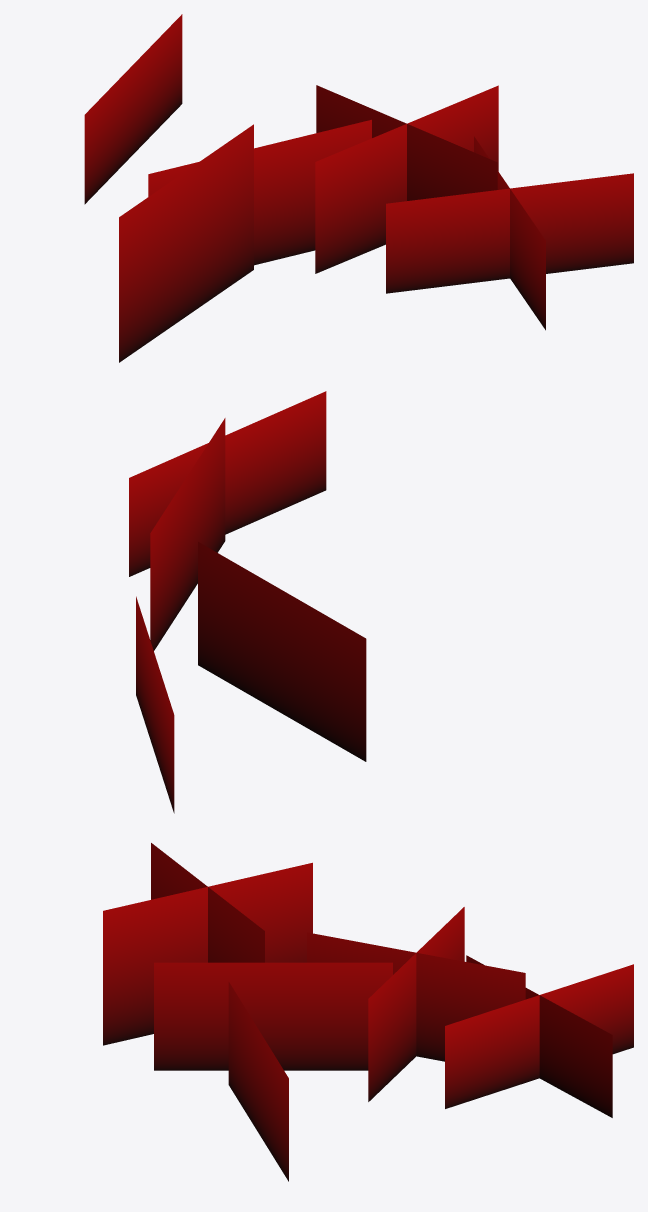
Rendered from Grass-FixedNormal.glb.
3 views of the same model, one above another, from view 1: azimuth 30°, elevation 25°; view 2: azimuth 150°, elevation 25°; view 3: azimuth 270°, elevation 25° (orthographic). The views are drawn at different scales.
Parts seen in each view (by area): view 1: GrassPatch_LOD2.005; view 2: GrassPatch_LOD2.005; view 3: GrassPatch_LOD2.005.
Boxes of the visible parts, x1,y1,x2,y2 form: GrassPatch_LOD2.005: (84, 14, 633, 362); GrassPatch_LOD2.005: (129, 391, 366, 813); GrassPatch_LOD2.005: (103, 843, 633, 1181).
Bounding box in the file's own units: 2.46 × 0.7006 × 2.92.
